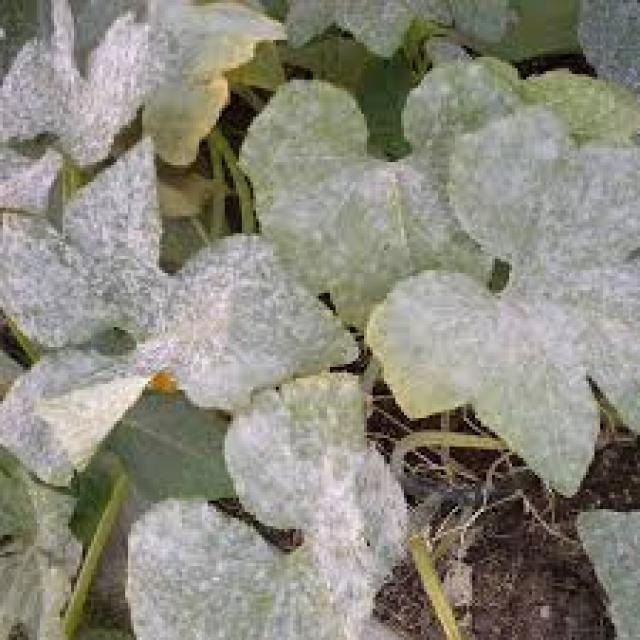powdery_mildew: (13, 31, 639, 602)
